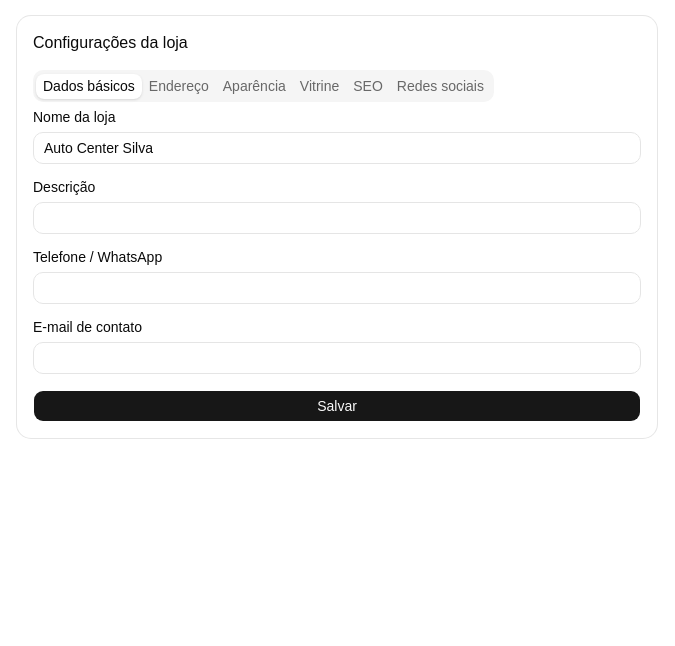
Test: ConfiguracoesPage › mostra erro no campo slug quando o Supabase retorna duplicidade
The image size is (675, 646).
Expected: the field labelled "Nome da loja" is shown, [33,132,641,164]
Click the tab "Vitrine" at x=320, y=86, box [293,74,346,98]
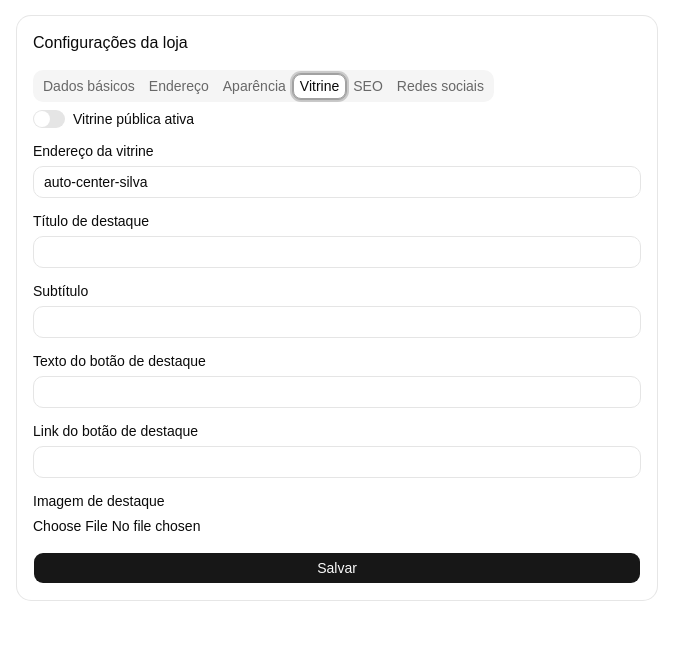
Type "ja-existe" into the field labelled "Endereço da vitrine" at x=337, y=182, box [33,166,641,198]
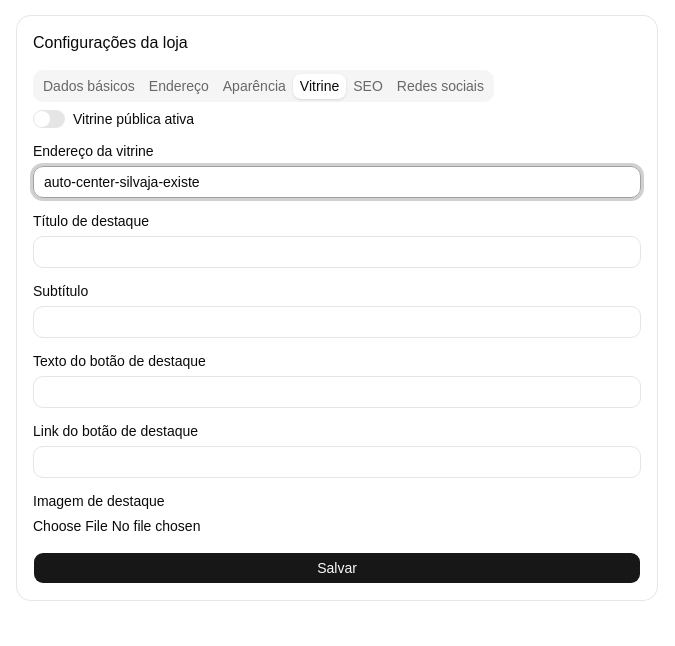
Click the button "Salvar" at x=337, y=568, box [33,552,641,584]
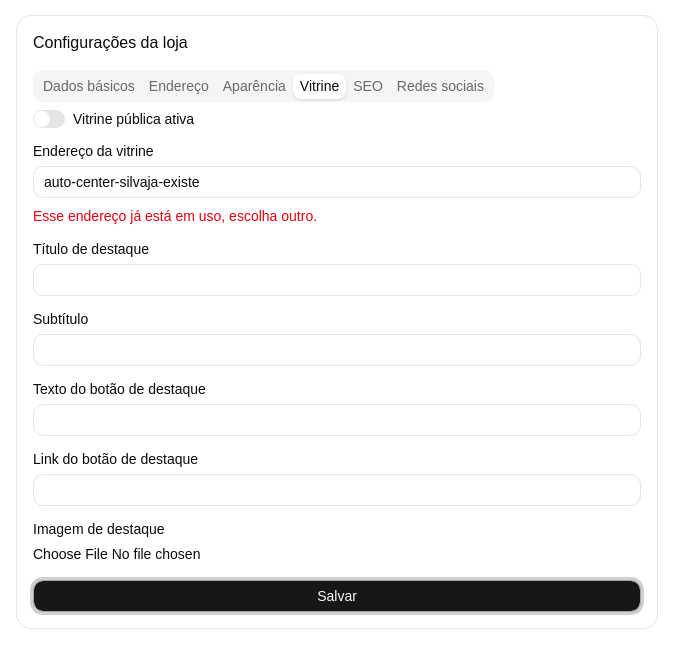
Result: the text "Esse endereço já está em uso, escolha outro." is shown at [33,208,317,224]
